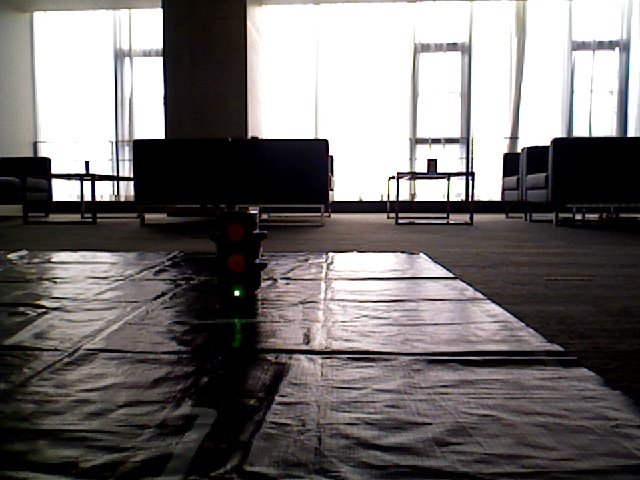green: (221, 211, 256, 304)
